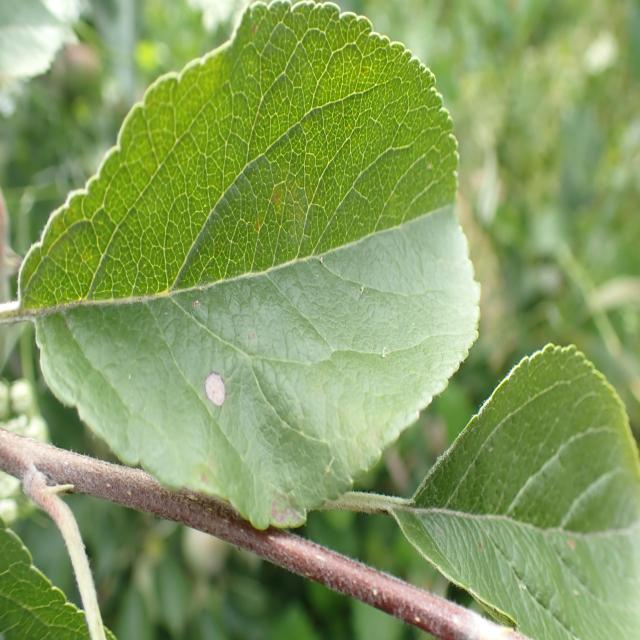Black Rot: (195, 327, 233, 439)
